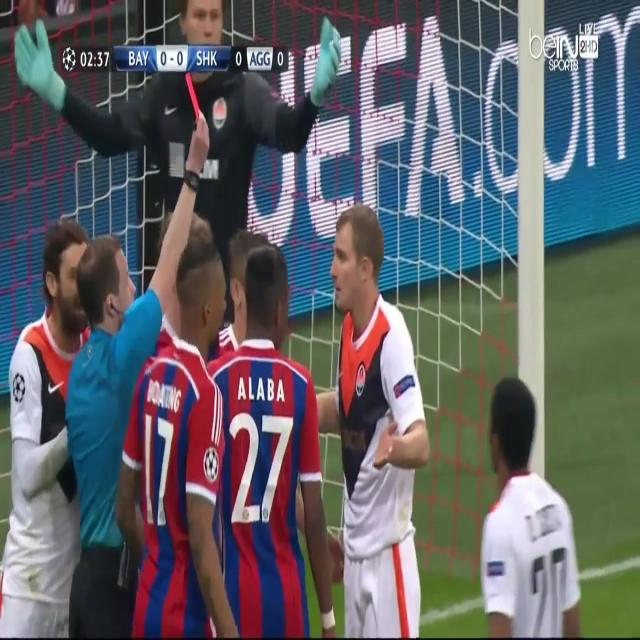Goalkeeper: (6, 0, 344, 222)
Player: (112, 236, 244, 640), (320, 200, 434, 640), (214, 242, 340, 634), (2, 217, 88, 640), (478, 369, 584, 635)
Referee: (63, 95, 206, 639)
